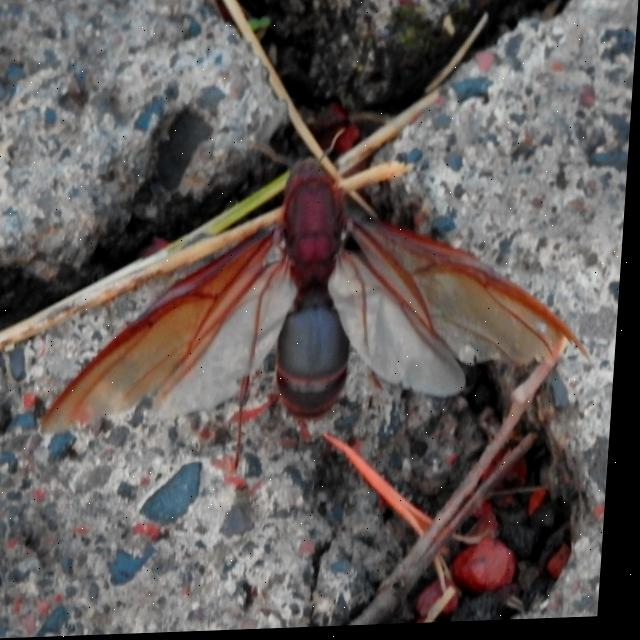Alive-Female-Alate: (44, 124, 611, 438)
